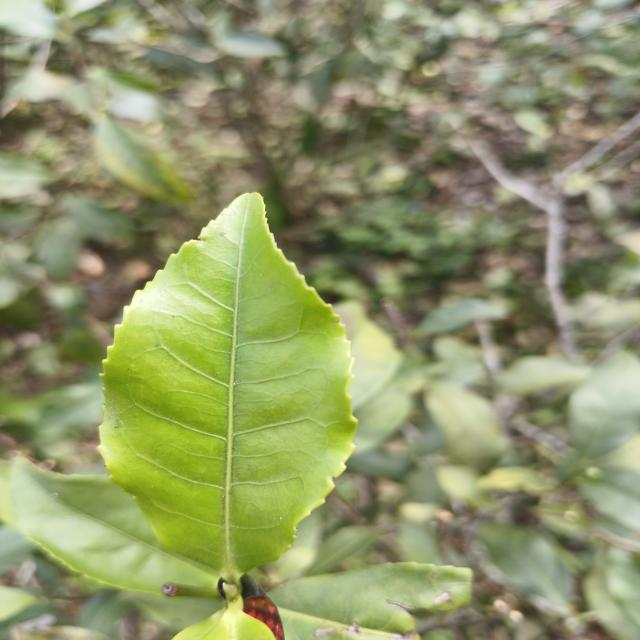Leaf: (100, 193, 356, 581), (10, 461, 219, 595), (268, 562, 471, 640), (94, 116, 192, 202), (479, 523, 572, 608), (569, 353, 640, 458), (425, 380, 507, 470), (578, 460, 640, 531), (307, 525, 380, 575), (62, 195, 132, 242), (0, 154, 53, 199), (0, 0, 56, 39), (217, 32, 286, 58)
